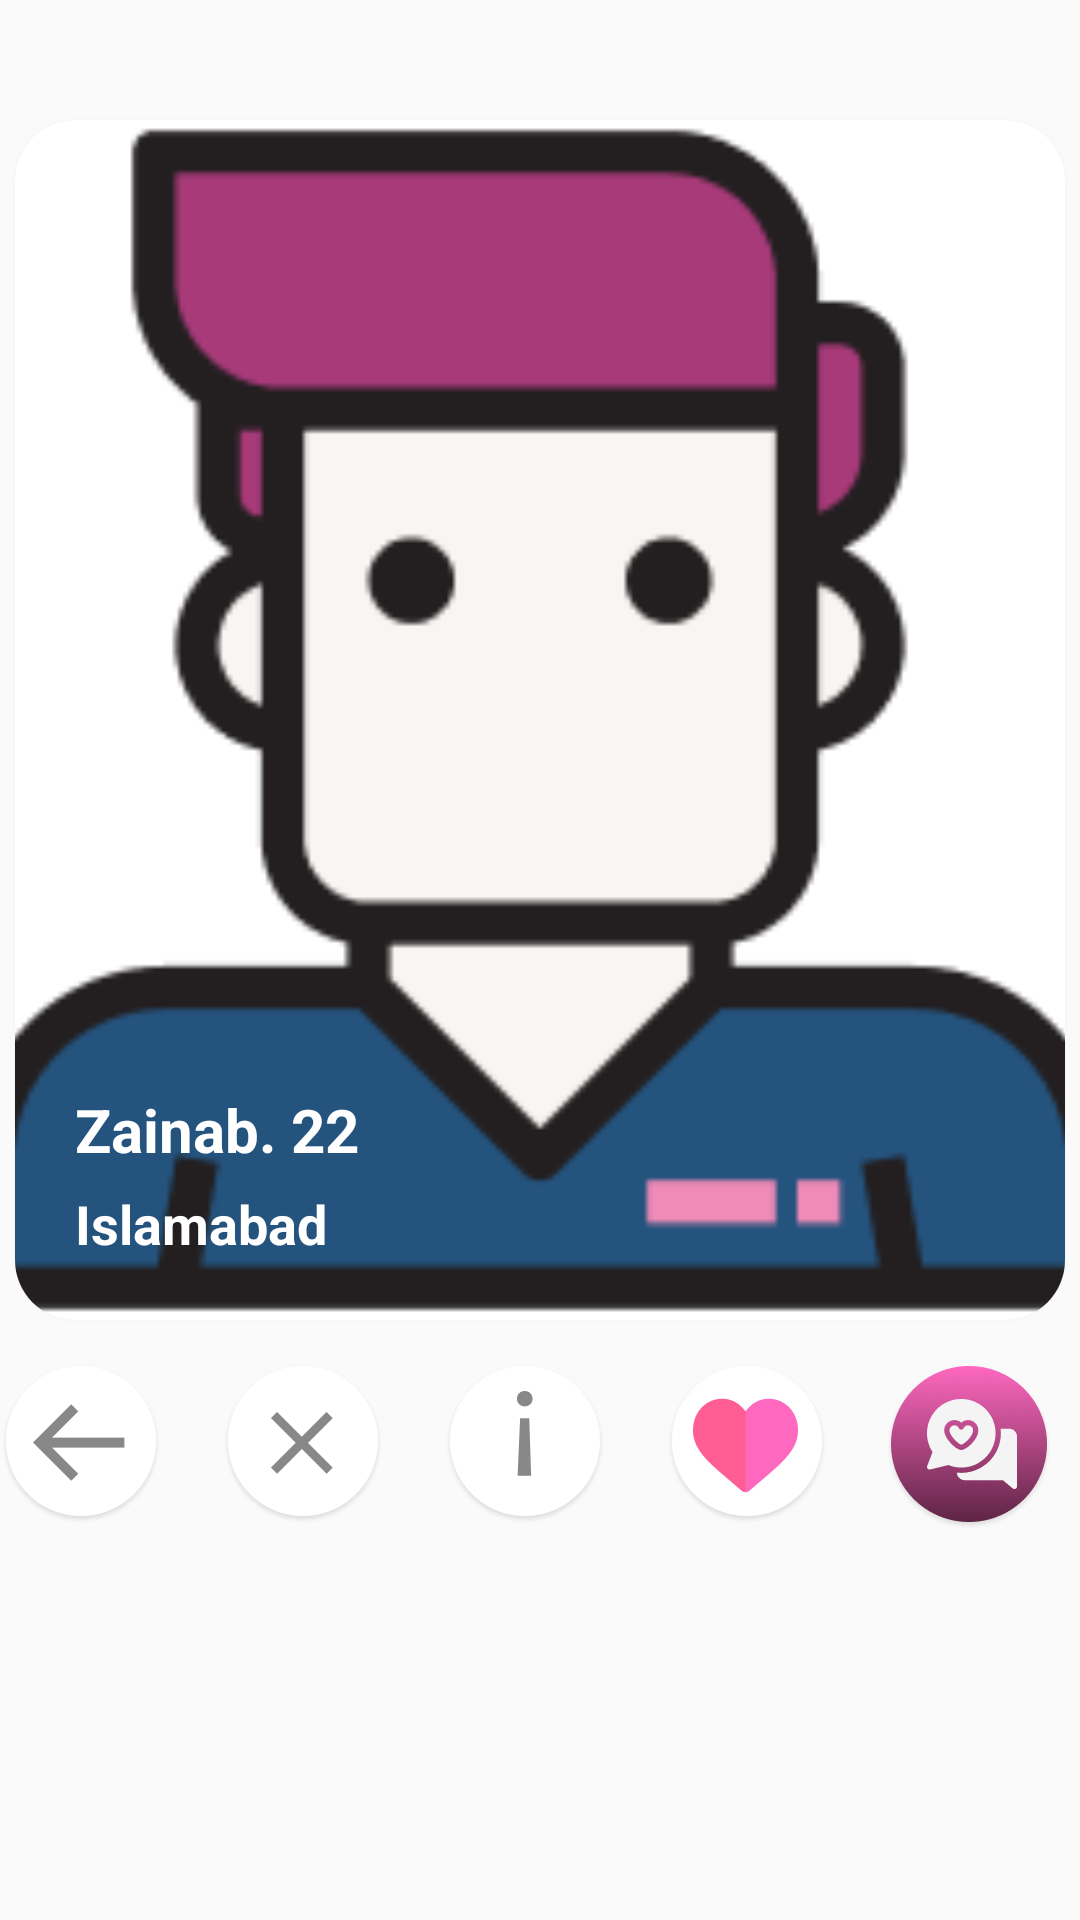

Icon bounding boxes for this 1080w x 1920h phone screenshot, format [x1=x1, y1=y1, x2=x2, y2=y2]:
back arrow: [x1=33, y1=1404, x2=125, y2=1517]
chat: [x1=891, y1=1366, x2=1047, y2=1523]
close: [x1=271, y1=1412, x2=333, y2=1517]
info: [x1=503, y1=1391, x2=547, y2=1517]
like: [x1=693, y1=1398, x2=798, y2=1517]
